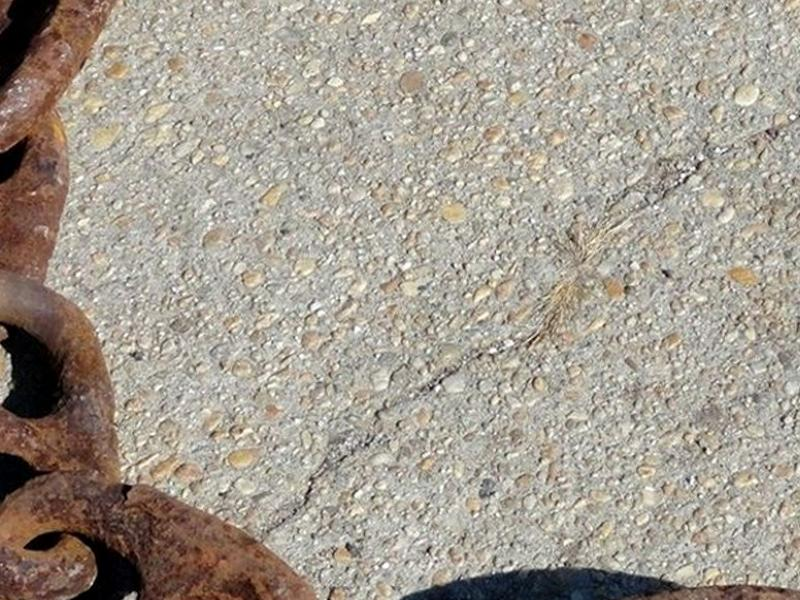rust: (1, 1, 144, 596), (4, 473, 296, 600), (646, 580, 799, 600)
